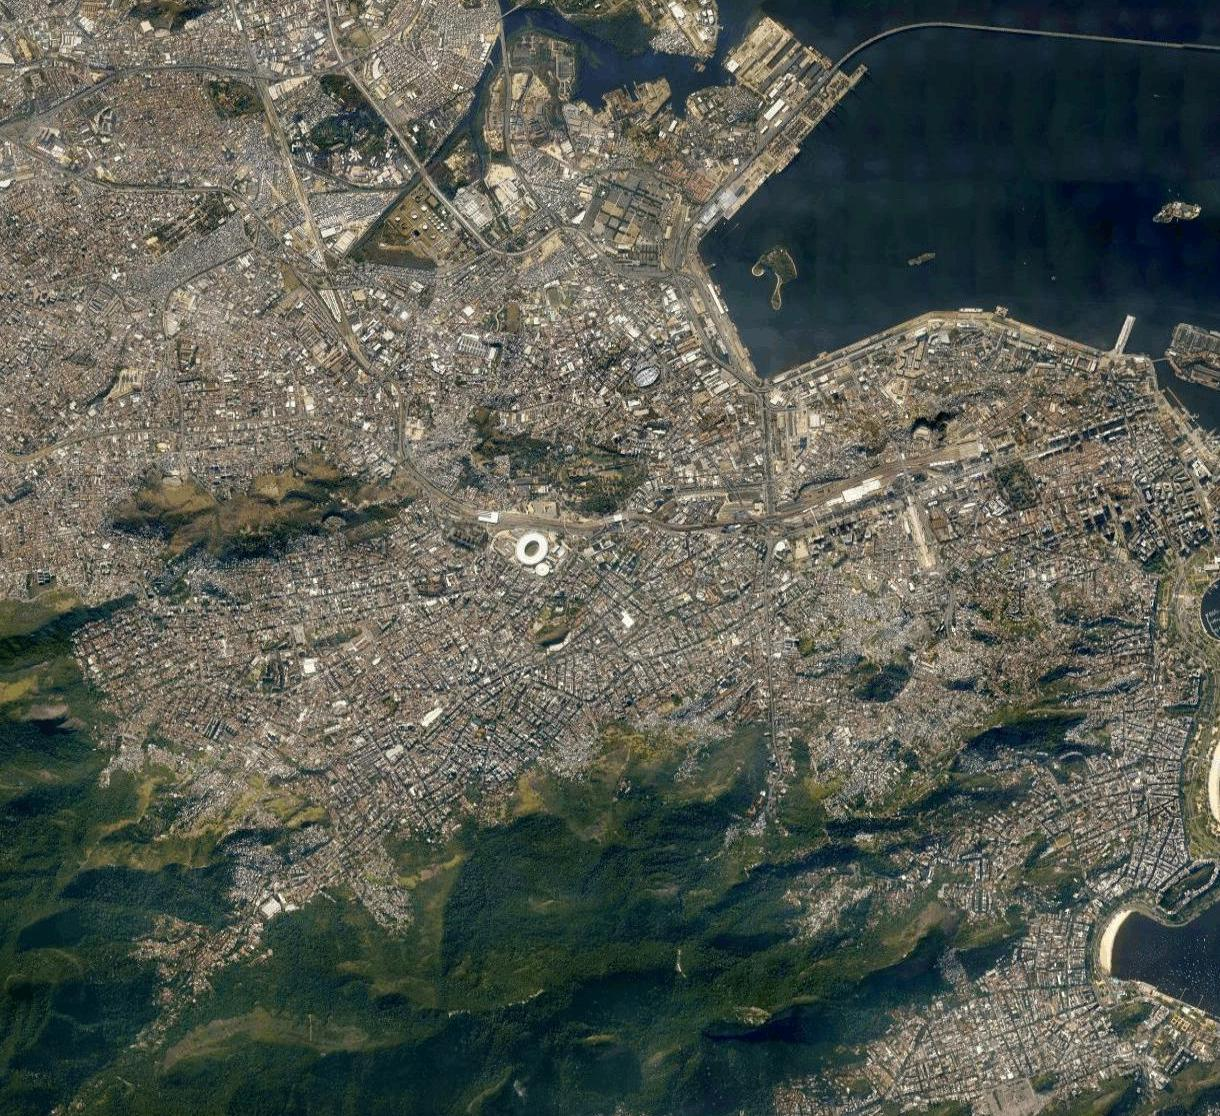train_station: (954, 440, 987, 461), (608, 510, 628, 526), (478, 510, 497, 522)
